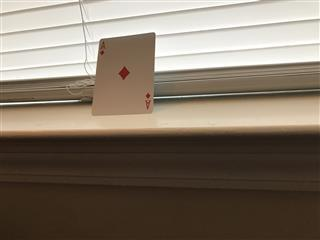AceOfDiamonds: (91, 31, 155, 115)
